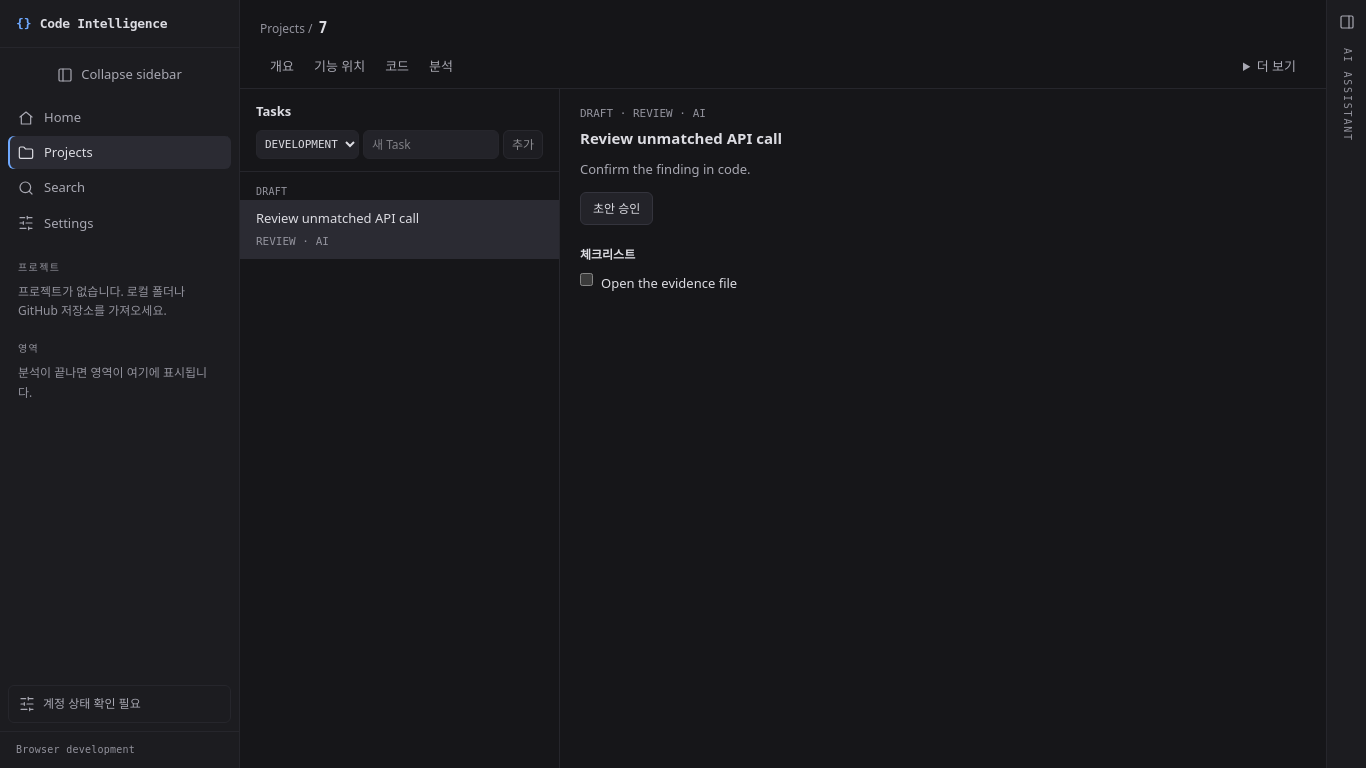
Test: TasksPage › shows an AI draft and approves it to OPEN
The image size is (1366, 768).
Expected: the heading "Tasks" is shown, [256, 102, 291, 120]
Click the button "초안 승인" at coordinates (617, 209), box [580, 192, 653, 225]
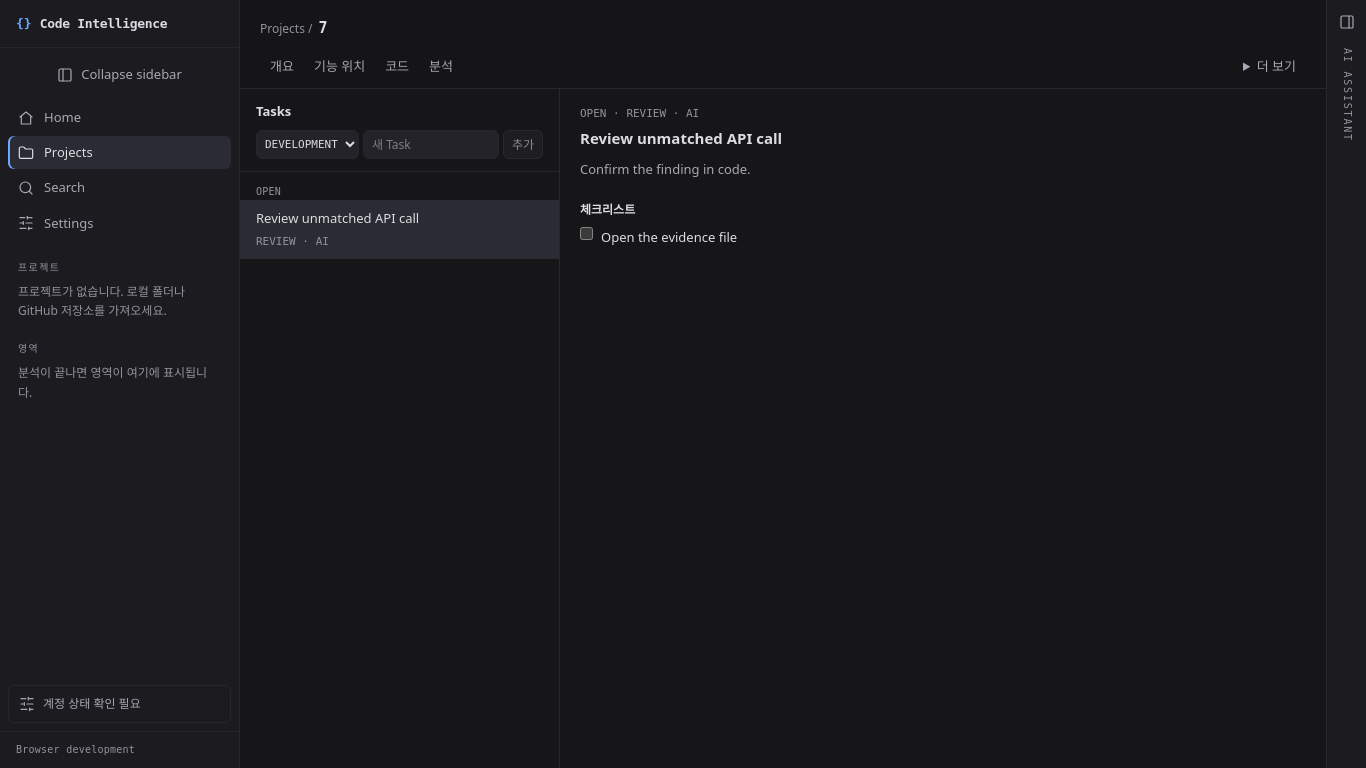
Expected: the text "OPEN · REVIEW · AI" is shown, [580, 106, 699, 120]
